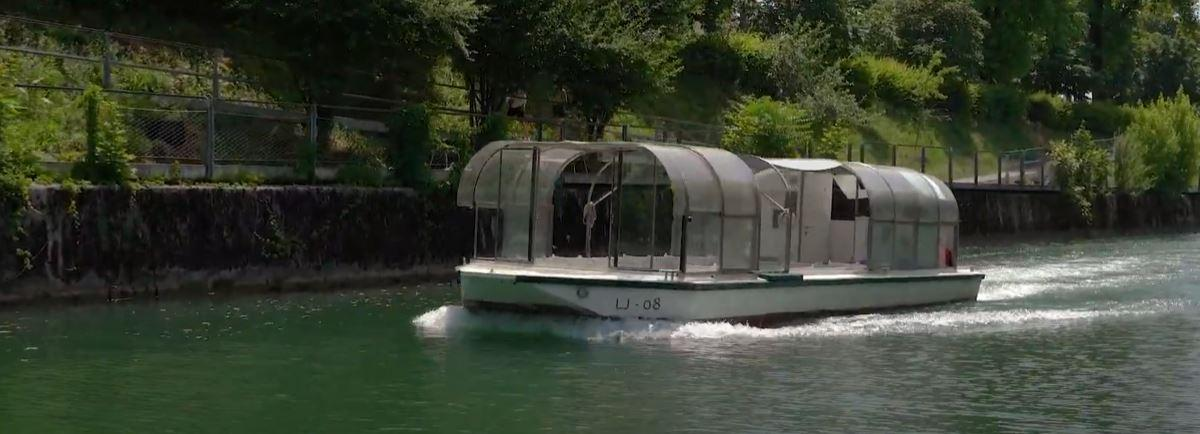Ship: (465, 143, 983, 313)
